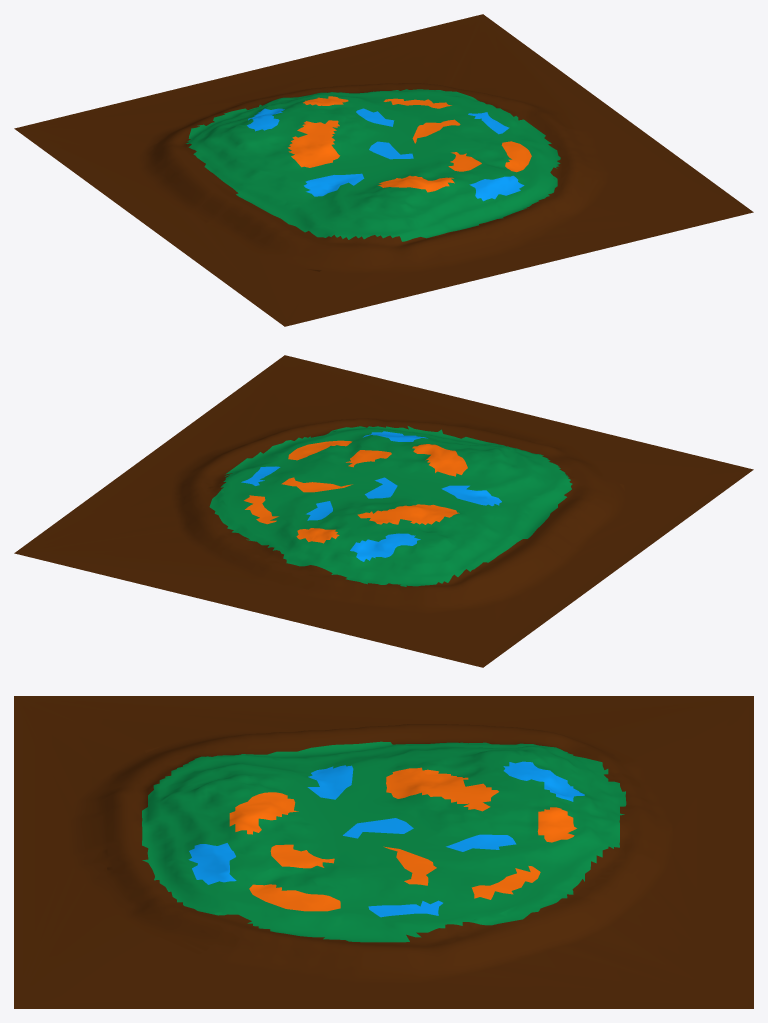
The model's file is world.glb.
3 views of the same model, one above another, from view 1: azimuth 30°, elevation 25°; view 2: azimuth 150°, elevation 25°; view 3: azimuth 270°, elevation 25° (orthographic). The views are drawn at different scales.
Parts seen in each view (by area): view 1: Landscape.001; view 2: Landscape.001; view 3: Landscape.001.
Part boxes in pixels (bbox=[...]): Landscape.001: bbox=[14, 14, 753, 326]; Landscape.001: bbox=[14, 355, 753, 667]; Landscape.001: bbox=[14, 696, 753, 1008].
Bounding box in the file's own units: 8 × 0.4442 × 8.
